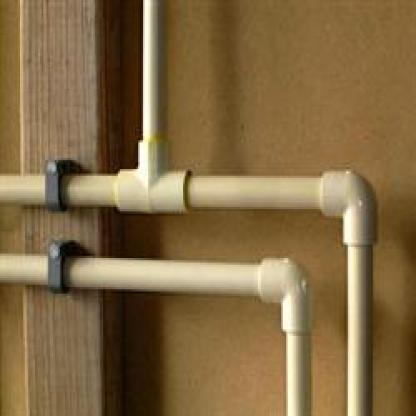PVC: (0, 0, 378, 414), (0, 254, 312, 414)
